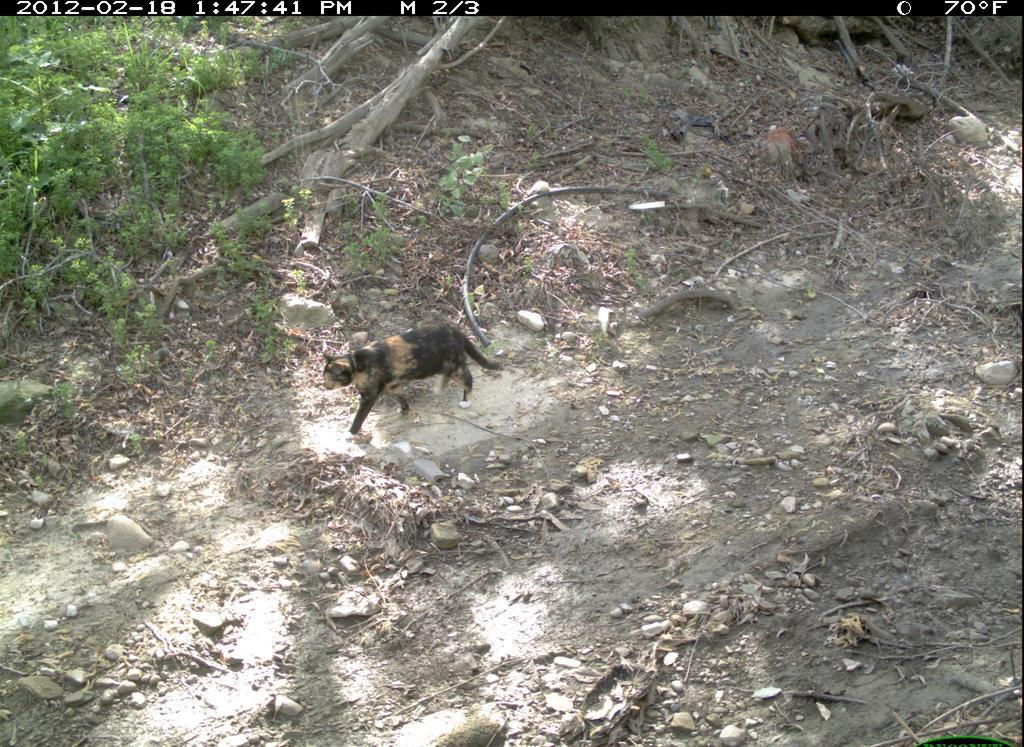cat: (319, 322, 501, 440)
